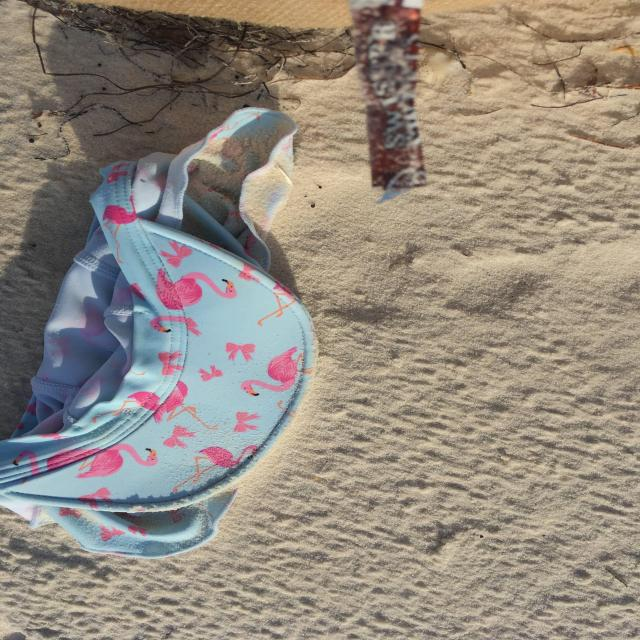litter: (8, 70, 382, 603)
